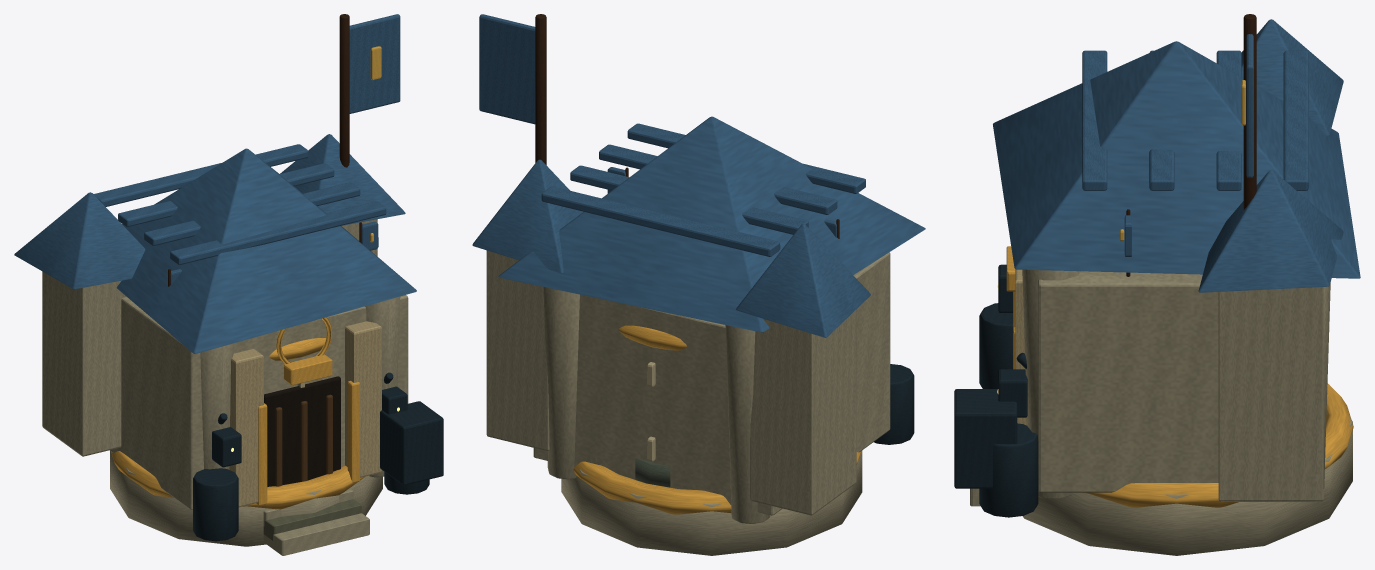
Rendered from tower-barracks-3-base.glb.
The picture shows the model from 3 angles, left to right: view 1: azimuth 30°, elevation 25°; view 2: azimuth 150°, elevation 25°; view 3: azimuth 270°, elevation 25°; orthographic projection. The views are drawn at different scales.
Parts seen in each view (by area): view 1: Foundation, barracks-L3-base; view 2: Foundation, barracks-L3-base; view 3: Foundation, barracks-L3-base.
Boxes of the visible parts, x1=… form: Foundation: x1=14, y1=14, x2=443, y2=555; barracks-L3-base: x1=110, y1=451, x2=382, y2=546; Foundation: x1=472, y1=14, x2=925, y2=523; barracks-L3-base: x1=561, y1=450, x2=862, y2=555; Foundation: x1=954, y1=14, x2=1360, y2=517; barracks-L3-base: x1=1022, y1=417, x2=1352, y2=555.
Size of the model in its own units: 2.49 by 2.87 by 1.94.
16 materials, 16 textured.
